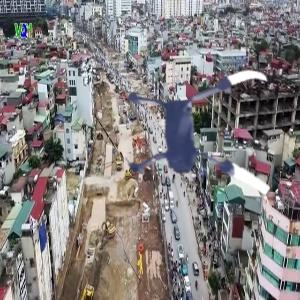drone: (102, 44, 295, 237)
